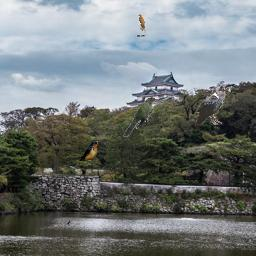Crow: (195, 85, 230, 125)
Cuckoo: (122, 97, 158, 137), (137, 14, 147, 37)
Swallow: (72, 140, 100, 161)
